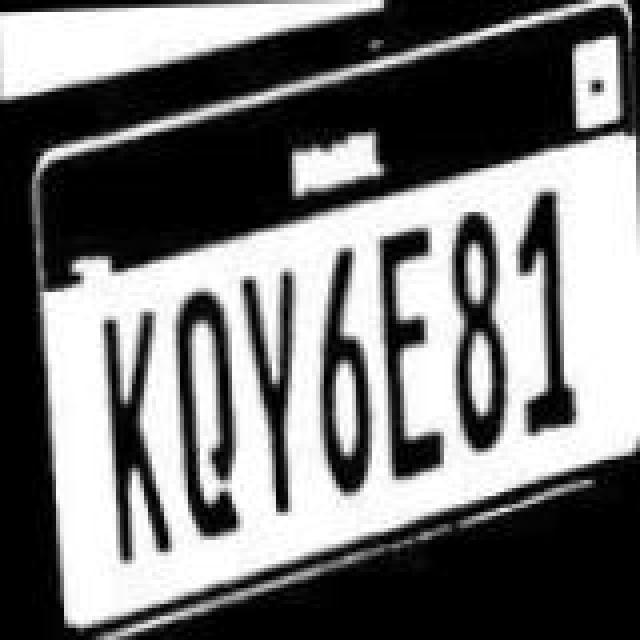1: (512, 184, 580, 432)
6: (314, 246, 374, 502)
8: (446, 204, 518, 468)
E: (374, 222, 442, 482)
K: (76, 298, 176, 562)
Q: (168, 282, 244, 538)
Y: (238, 264, 306, 544)
